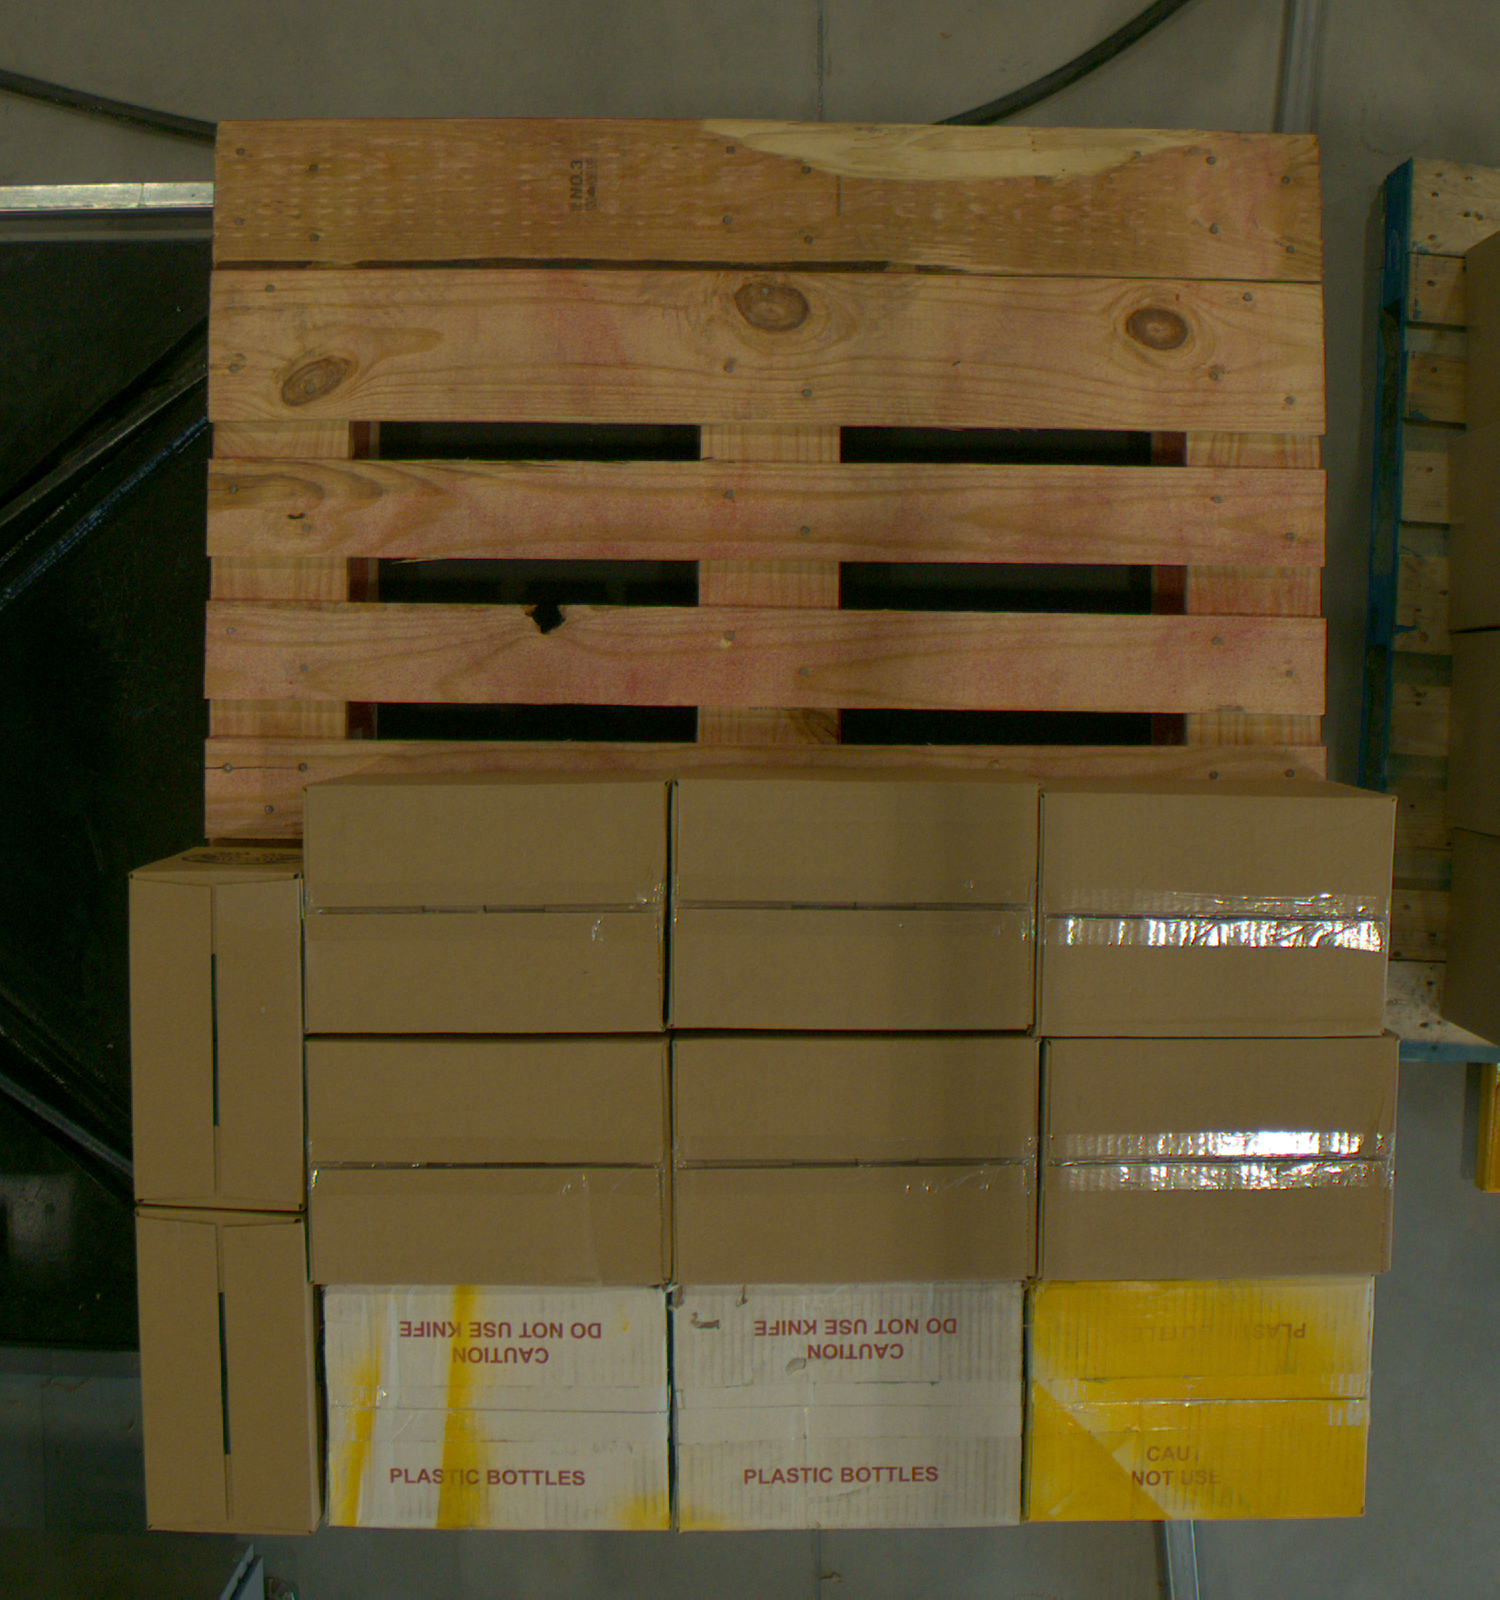box top: (672, 781, 1033, 1032), (361, 726, 608, 1091), (1039, 1038, 1400, 1283), (306, 1043, 671, 1284), (674, 1040, 1038, 1281), (1038, 794, 1397, 1036), (726, 1231, 970, 1582), (1026, 1279, 1376, 1522), (376, 1239, 617, 1580), (130, 873, 305, 1212), (135, 1210, 314, 1537)
